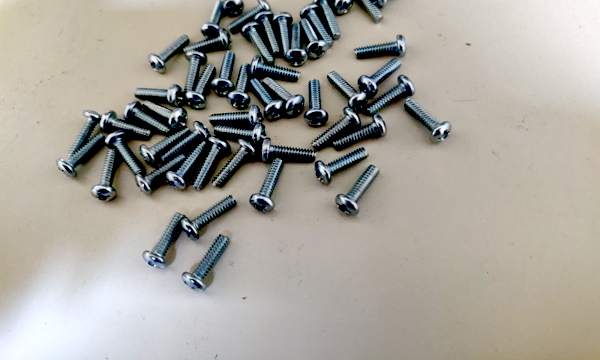shortscrew: (182, 234, 230, 293), (181, 195, 238, 240), (142, 212, 184, 269), (336, 165, 380, 217), (212, 139, 258, 188), (56, 134, 105, 179), (311, 108, 362, 151), (192, 136, 231, 192), (136, 153, 188, 195), (404, 99, 452, 144), (315, 147, 370, 186), (165, 142, 208, 191), (160, 122, 211, 162), (332, 114, 388, 150), (366, 75, 415, 116), (141, 127, 192, 166), (105, 131, 146, 177), (250, 158, 284, 213), (358, 58, 403, 98), (67, 110, 103, 159), (263, 77, 305, 118), (123, 101, 173, 135), (149, 34, 191, 74), (328, 70, 367, 111), (100, 110, 153, 140), (227, 0, 274, 33), (301, 4, 334, 49), (92, 149, 120, 202), (185, 64, 217, 110), (183, 28, 232, 58), (242, 21, 275, 65), (250, 56, 302, 83), (250, 79, 284, 120), (142, 100, 188, 130), (261, 138, 317, 162), (354, 34, 406, 59), (214, 123, 266, 147), (209, 105, 263, 128), (184, 50, 208, 100), (211, 51, 237, 97), (299, 19, 328, 60), (304, 80, 329, 127), (227, 63, 252, 109), (313, 0, 341, 41), (201, 1, 228, 40), (135, 85, 185, 106), (286, 24, 308, 67), (346, 0, 384, 23), (274, 12, 290, 58), (321, 0, 354, 16), (218, 0, 245, 17), (371, 0, 415, 8)
